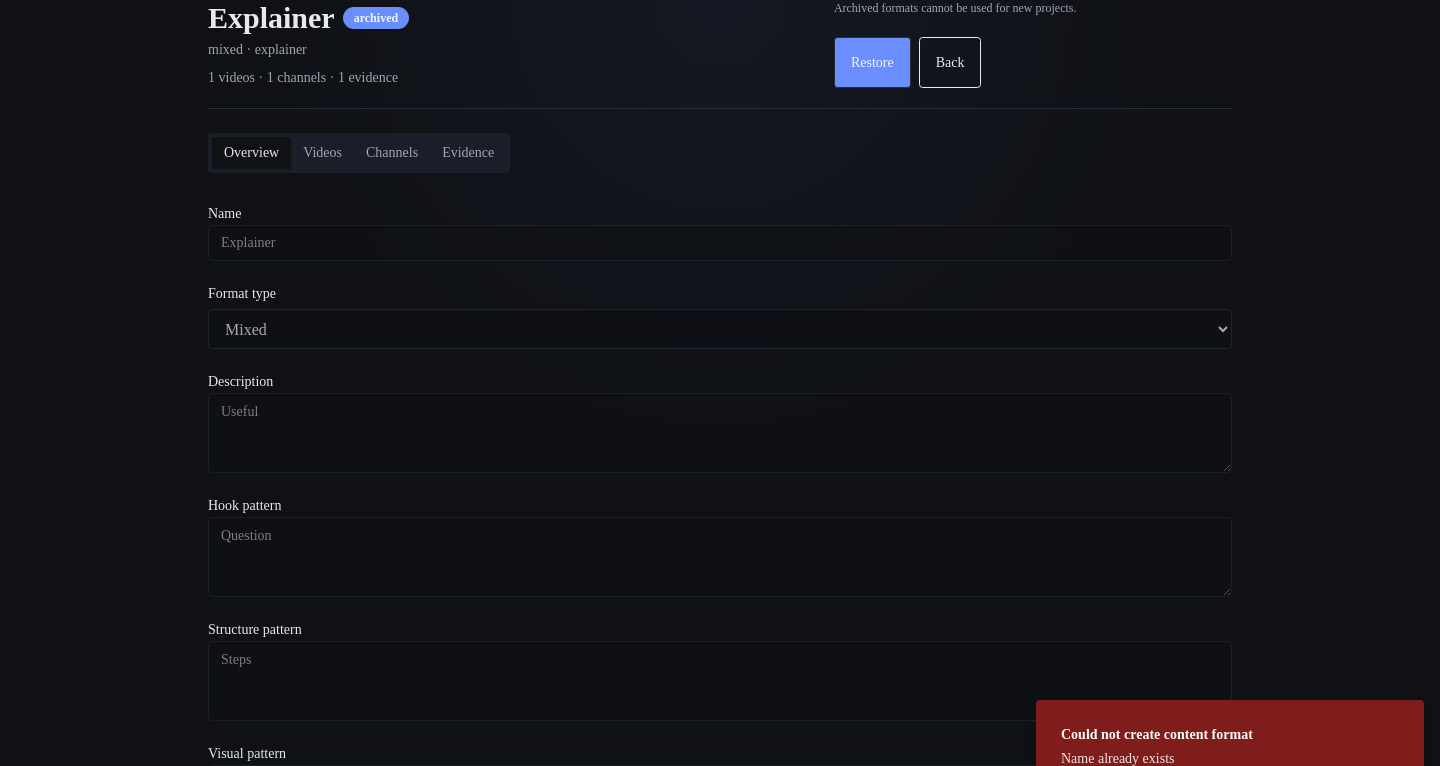
Test: Content Format detail and tabs › restores through the feature API, invalidates detail and list, and returns to draft semantics
Expected: the text "archived" is shown, [343, 7, 409, 29]
Click the button "Restore": {"x": 872, "y": 62} [834, 37, 911, 88]
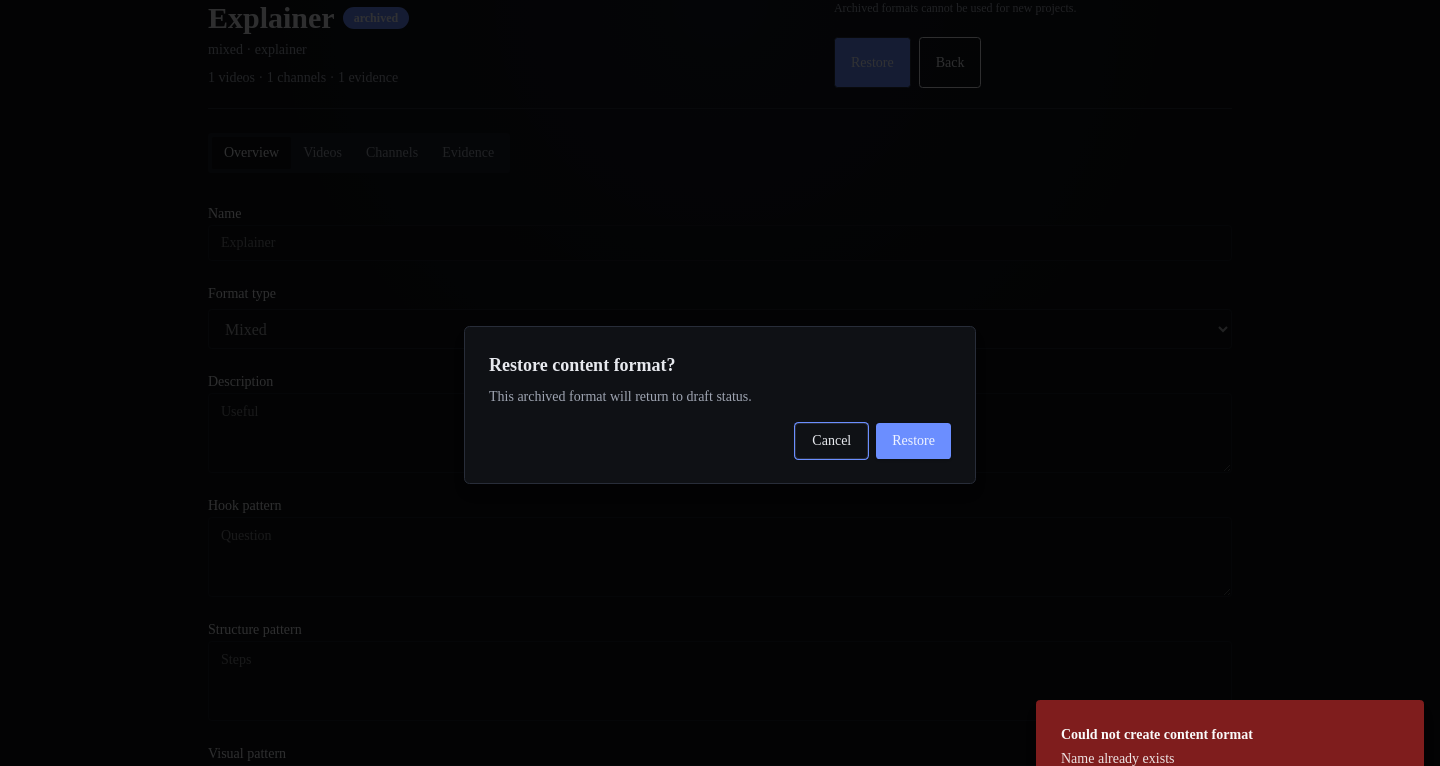
Click the button "Restore": {"x": 914, "y": 441} [876, 423, 951, 459]
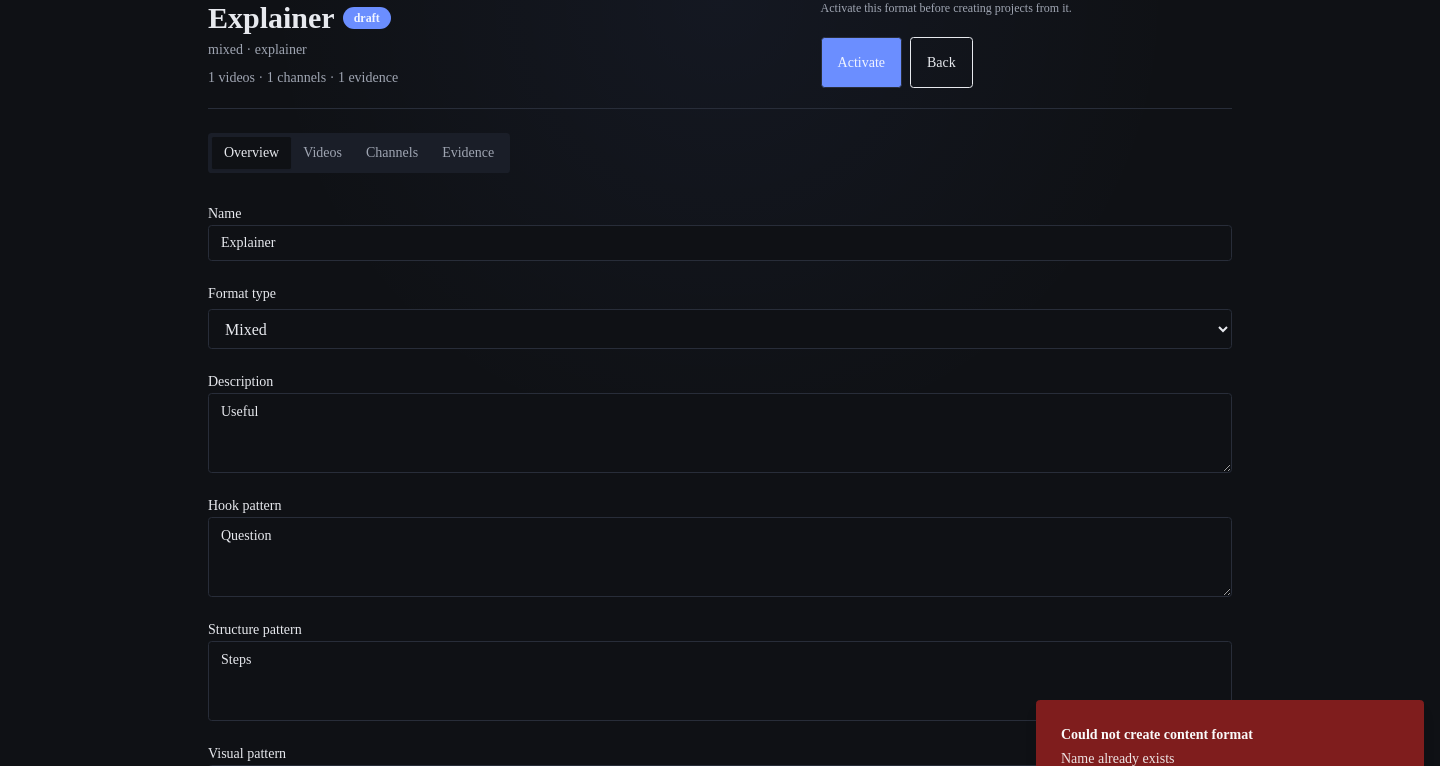
Result: the text "draft" is shown at [343, 7, 391, 29]
Result: the button "Activate" is enabled at [821, 37, 902, 88]
